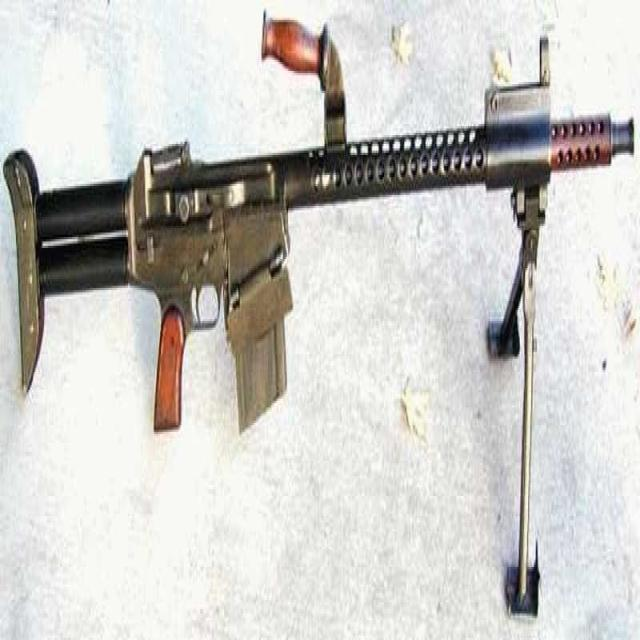heavyweapon: (12, 24, 640, 482)
